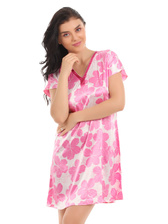clothoes: (39, 49, 131, 206)
